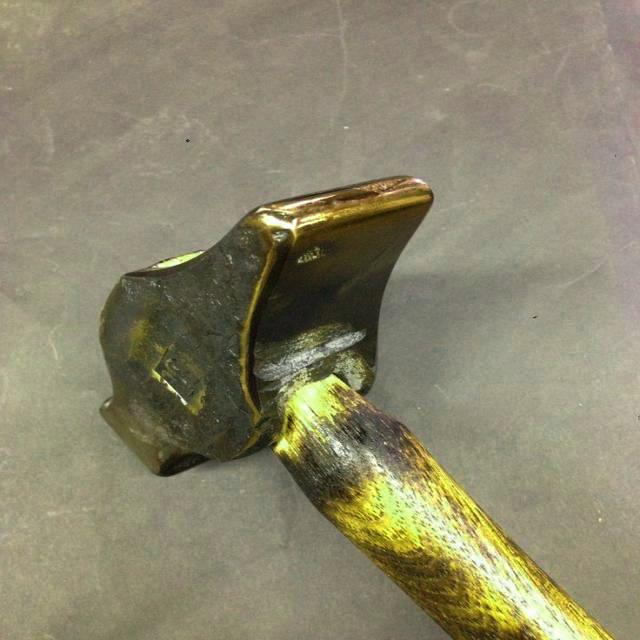hammer: (88, 173, 614, 640)
